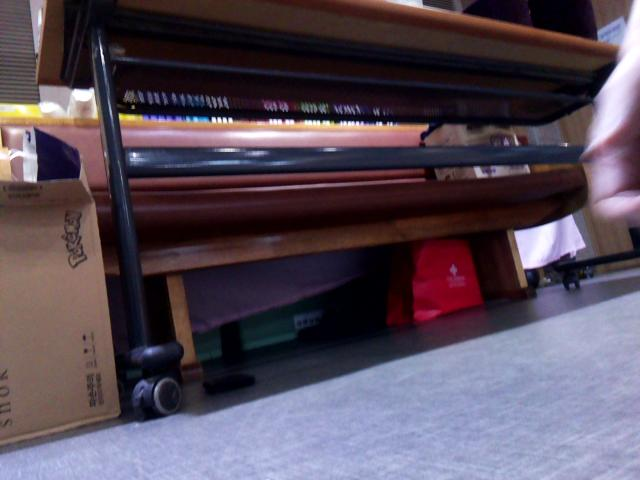wallet: (200, 369, 266, 401)
